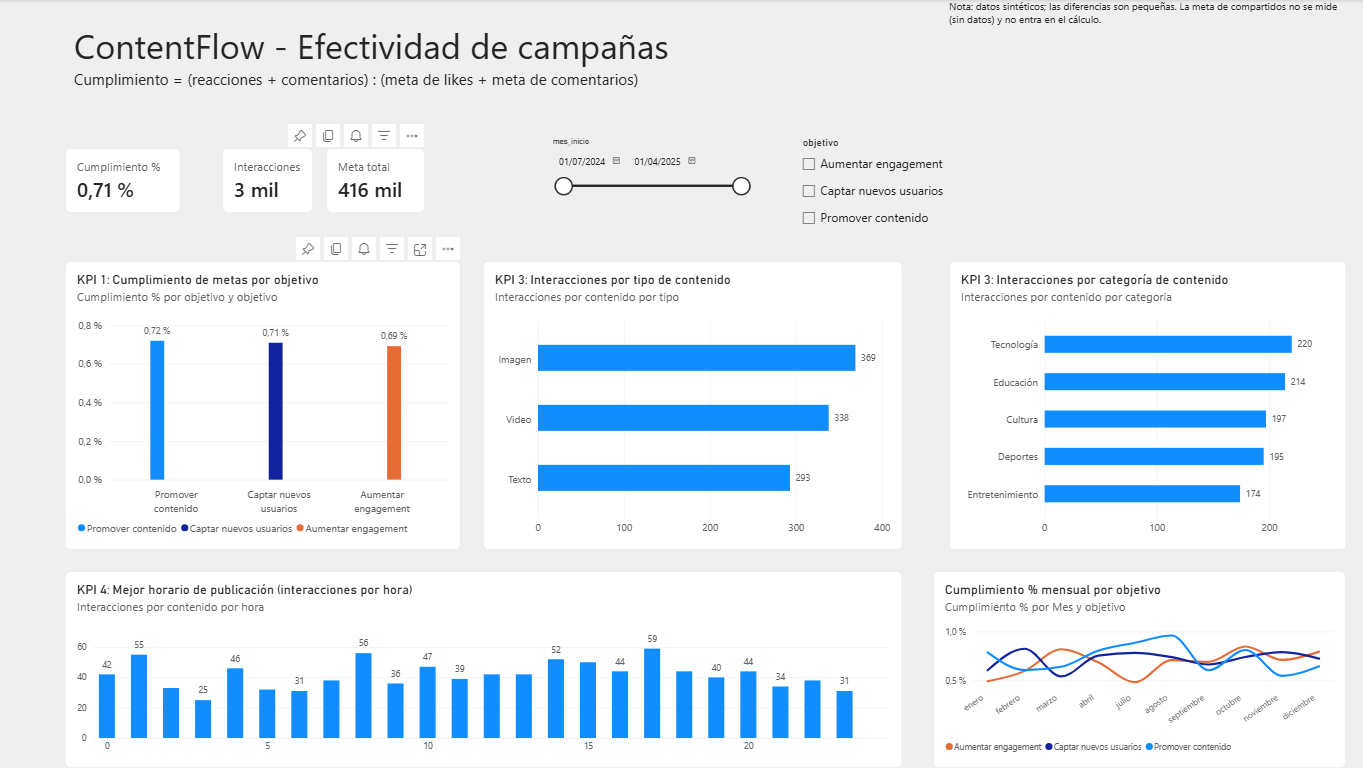

What the dashboard file says about the page in this screenshot:
{"tool":"powerbi","page":{"name":"Página 1","canvas":[1920,1080],"ordinal":0},"visuals":[{"type":"clusteredColumnChart","title":"KPI 1: Cumplimiento de metas por objetivo","fields":{"Category":["campanas.objetivo"],"Series":["campanas.objetivo"],"Y":["campanas.Cumplimiento %"]},"box":[93.2,368.2,556.2,406.1],"z":0},{"type":"cardVisual","fields":{"Data":["campanas.Cumplimiento %"]},"box":[93.2,208.6,162.8,91.7],"z":1000},{"type":"cardVisual","fields":{"Data":["campanas.Interacciones"]},"box":[312.9,208.6,128,91.7],"z":2000},{"type":"textbox","box":[105.9,31.6,984.5,80.6],"z":4000},{"type":"textbox","box":[105.9,98,824.9,42.7],"z":5000},{"type":"slicer","fields":{"Values":["campanas.mes_inicio"]},"box":[769.6,194.4,289.2,118.5],"z":6000},{"type":"slicer","fields":{"Values":["campanas.objetivo"]},"box":[1120.4,194.4,383,150],"z":7000},{"type":"clusteredBarChart","title":"KPI 3: Interacciones por tipo de contenido","fields":{"Category":["publicaciones.tipo"],"Y":["publicaciones.Interacciones por contenido"]},"box":[679.5,368.2,589.4,406.1],"z":8000},{"type":"clusteredBarChart","title":"KPI 3: Interacciones por categoría de contenido","fields":{"Category":["publicaciones.categoria"],"Y":["publicaciones.Interacciones por contenido"]},"box":[1333.7,368.2,557.8,406.1],"z":9000},{"type":"columnChart","title":"KPI 4: Mejor horario de publicación (interacciones por hora)","fields":{"Category":["publicaciones.hora"],"Y":["publicaciones.Interacciones por contenido"]},"box":[93.2,802.8,1175.7,276.5],"z":10000},{"type":"lineChart","title":"Cumplimiento % mensual por objetivo","fields":{"Category":["campanas.mes_inicio.Variation.Jerarquía de fechas.Mes"],"Series":["campanas.objetivo"],"Y":["campanas.Cumplimiento %"]},"box":[1311.6,802.8,580,276.5],"z":10001},{"type":"cardVisual","fields":{"Data":["campanas.Meta total"]},"box":[459.9,208.6,139.1,91.7],"z":10002},{"type":"textbox","box":[1334,0,558,150],"z":10003}]}

Visuals, with their boxes in screenshot pixels (x1, y1, x2, y2), scaled from the page's 1920x1080 canvas onto the 1363x768 screenshot:
"KPI 1: Cumplimiento de metas por objetivo" clusteredColumnChart: x1=66 y1=262 x2=461 y2=551
cardVisual - campanas.Cumplimiento %: x1=66 y1=148 x2=182 y2=214
cardVisual - campanas.Interacciones: x1=222 y1=148 x2=313 y2=214
textbox: x1=75 y1=22 x2=774 y2=80
textbox: x1=75 y1=70 x2=661 y2=100
slicer - campanas.mes_inicio: x1=546 y1=138 x2=752 y2=223
slicer - campanas.objetivo: x1=795 y1=138 x2=1067 y2=245
"KPI 3: Interacciones por tipo de contenido" clusteredBarChart: x1=482 y1=262 x2=901 y2=551
"KPI 3: Interacciones por categoría de contenido" clusteredBarChart: x1=947 y1=262 x2=1343 y2=551
"KPI 4: Mejor horario de publicación (interacciones por hora)" columnChart: x1=66 y1=571 x2=901 y2=767
"Cumplimiento % mensual por objetivo" lineChart: x1=931 y1=571 x2=1343 y2=767
cardVisual - campanas.Meta total: x1=326 y1=148 x2=425 y2=214
textbox: x1=947 y1=0 x2=1343 y2=107
